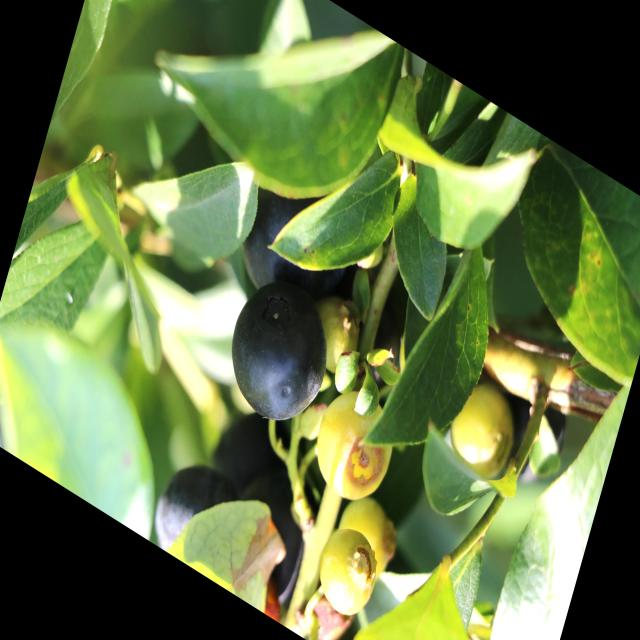blueberry: (212, 256, 343, 451), (229, 152, 364, 333), (143, 435, 255, 590), (219, 481, 317, 618)
blueberry-unripe: (304, 372, 402, 516), (441, 368, 520, 491), (310, 513, 388, 631), (332, 489, 404, 576)
